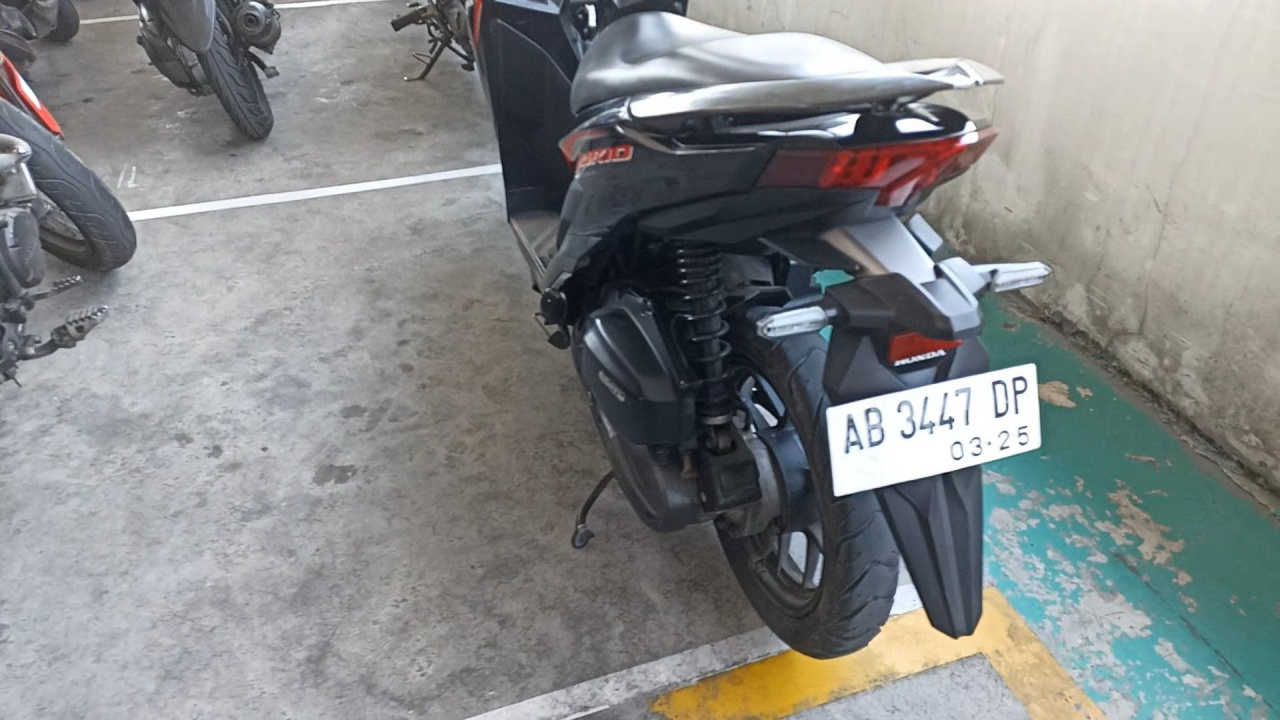plate: (827, 363, 1043, 497)
